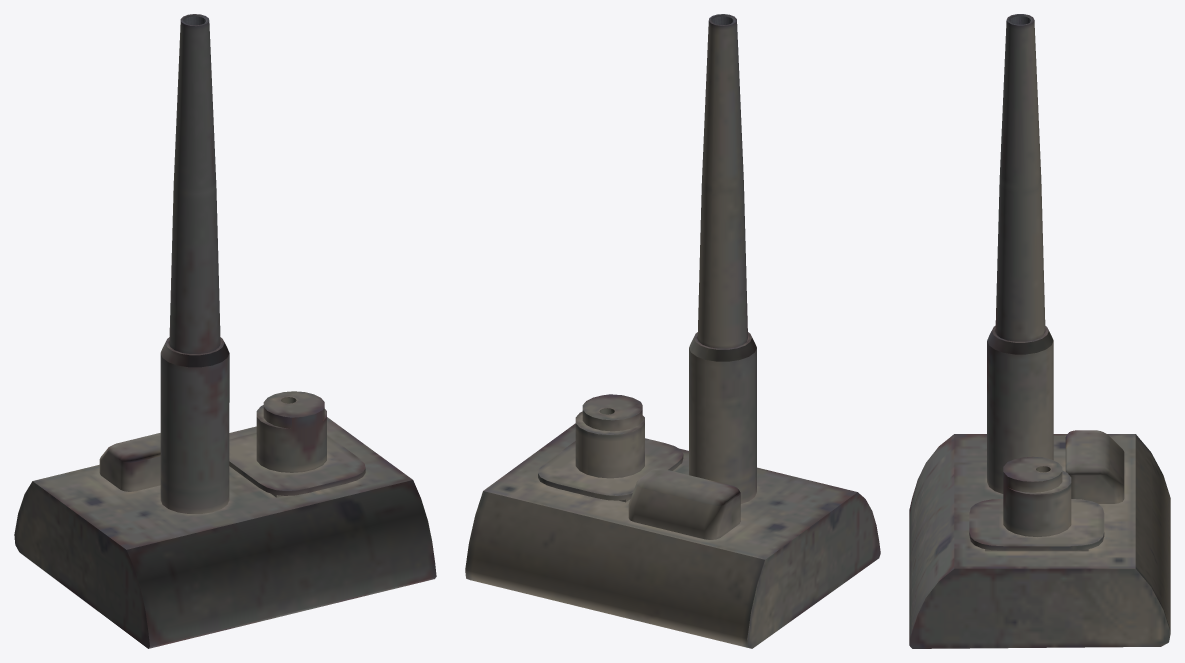
The model's file is Gun_02.glb.
3 views of the same model, side by side, from view 1: azimuth 30°, elevation 25°; view 2: azimuth 150°, elevation 25°; view 3: azimuth 270°, elevation 25° (orthographic). The views are drawn at different scales.
Parts seen in each view (by area): view 1: set_0_group_0; view 2: set_0_group_0; view 3: set_0_group_0.
Part boxes in pixels (box(x1,y1,x2,y2)): set_0_group_0: box(14, 14, 436, 648); set_0_group_0: box(465, 14, 880, 648); set_0_group_0: box(909, 14, 1170, 648).
Bounding box in the file's own units: 0.5631 × 1.06 × 0.4613.
1 material, 1 textured.
